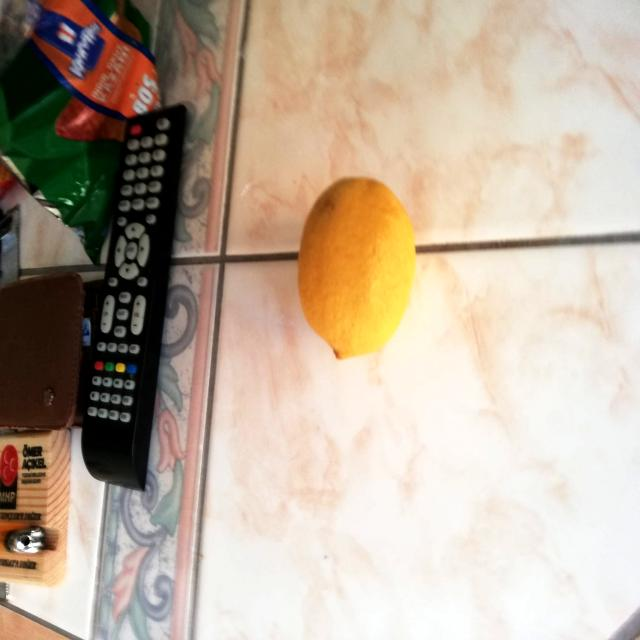lemon: (296, 168, 420, 364)
